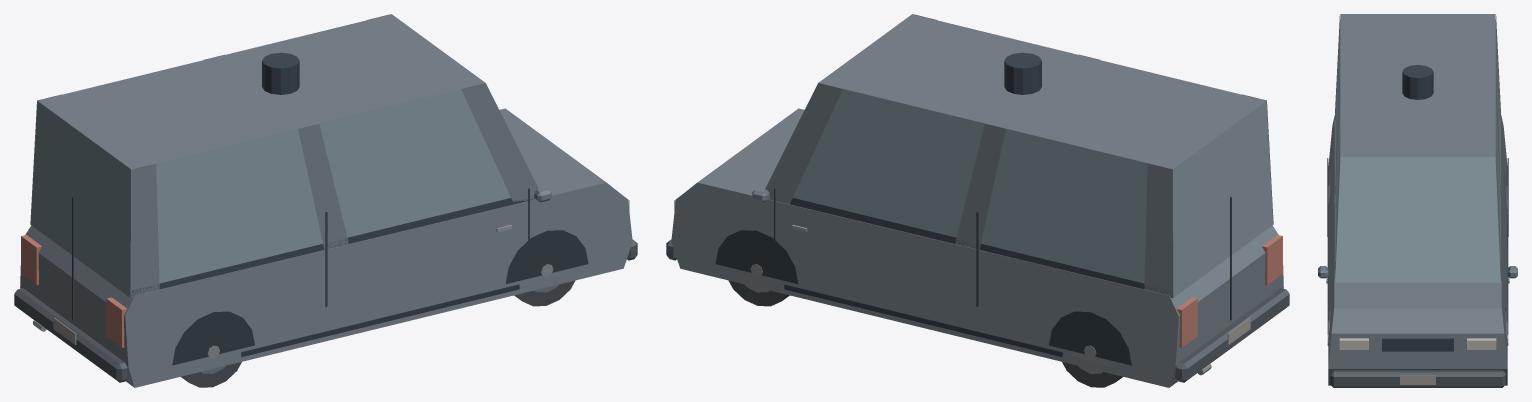
The model's file is vehiculo_van.glb.
3 renders of one model, left to right at view 1: azimuth 30°, elevation 25°; view 2: azimuth 150°, elevation 25°; view 3: azimuth 270°, elevation 25°, orthographic. The views are drawn at different scales.
Size of the model in its own units: 5.8 by 2.73 by 2.32.
